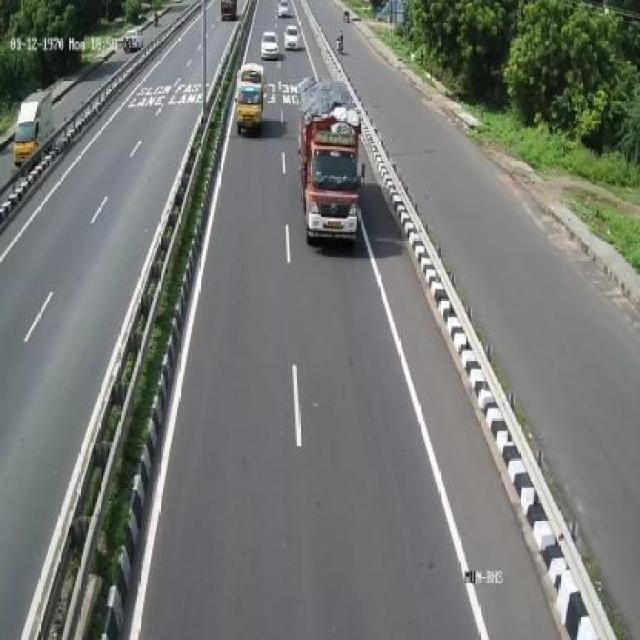car: (228, 54, 275, 143), (262, 24, 283, 64)
